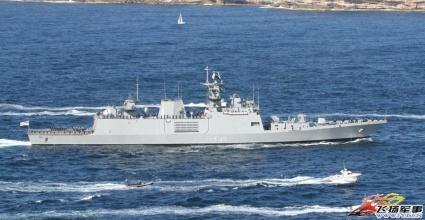fanchuan: (177, 10, 186, 25)
warship: (19, 66, 393, 147)
